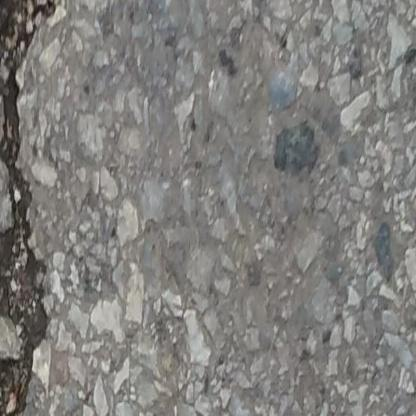Cracks: (0, 0, 80, 416)
